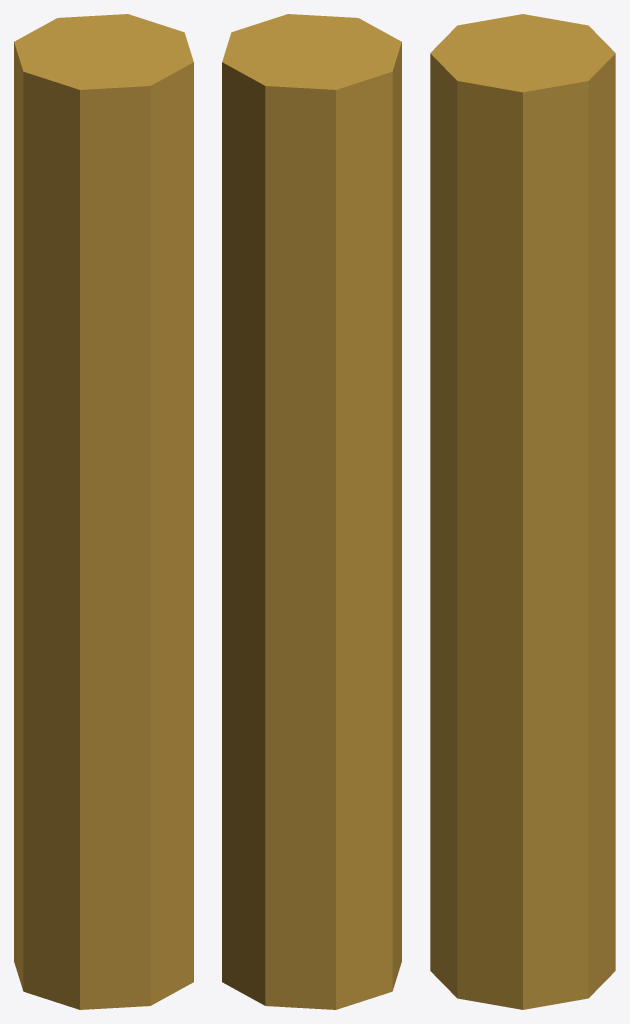
File: Casing_RifleLarge.fbx
The picture shows the model from 3 angles, left to right: view 1: azimuth 30°, elevation 25°; view 2: azimuth 150°, elevation 25°; view 3: azimuth 270°, elevation 25°; orthographic projection.
Parts seen in each view (by area): view 1: prims; view 2: prims; view 3: prims.
Boxes of the visible parts, x1=… form: prims: x1=14, y1=14, x2=193, y2=1009; prims: x1=222, y1=14, x2=401, y2=1009; prims: x1=430, y1=14, x2=615, y2=1009.
Size of the model in its own units: 0.0066 by 0.036 by 0.0066.
